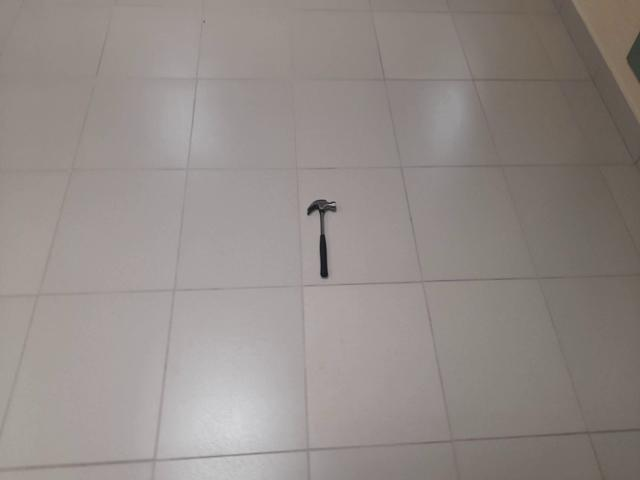Hammer: (308, 200, 336, 278)
